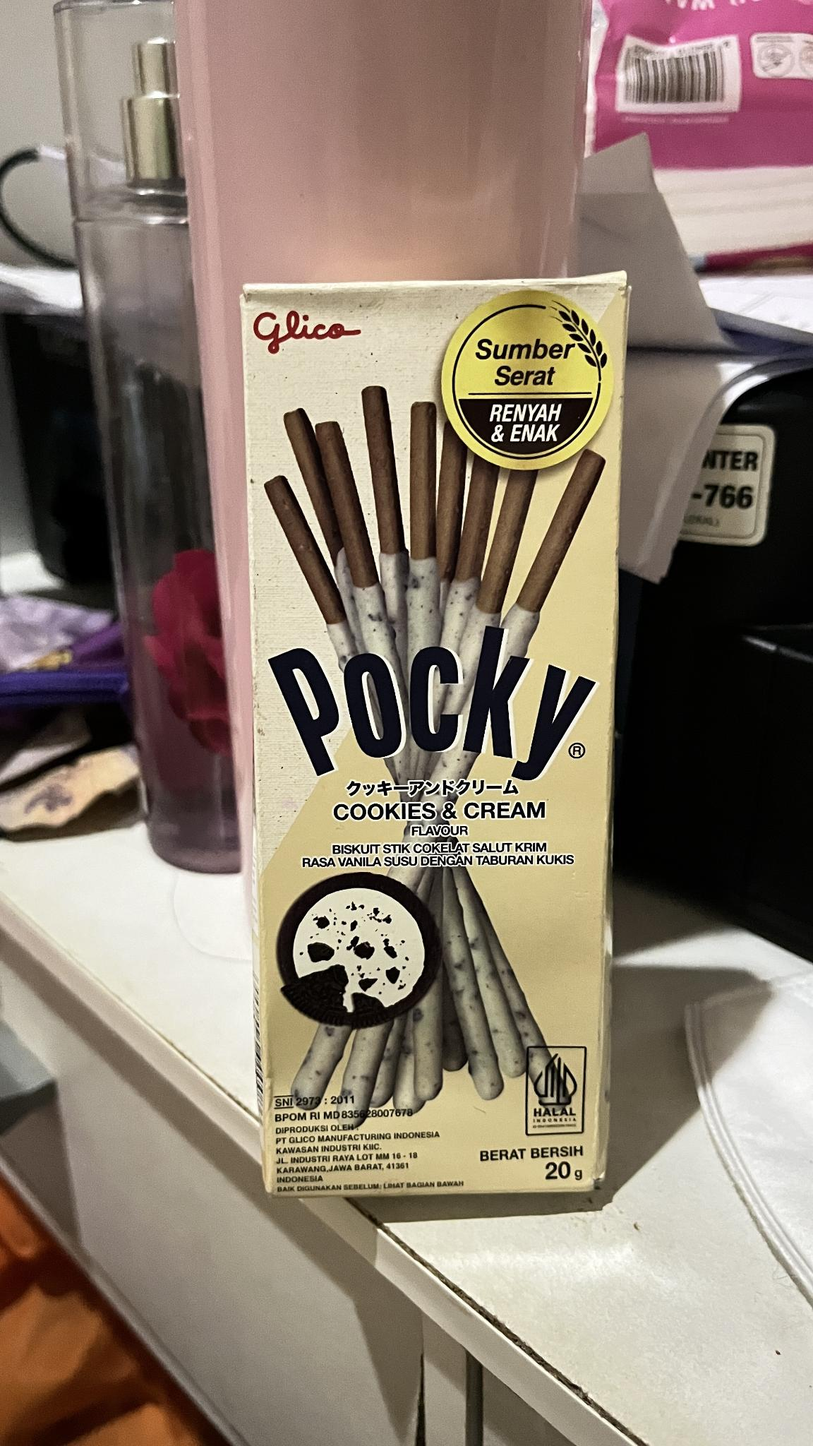Kertas: (240, 283, 624, 1198)
